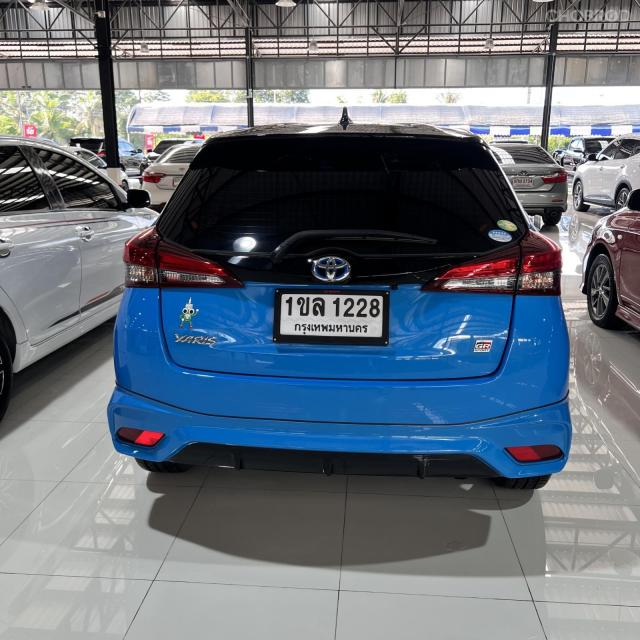license_plate: (268, 281, 392, 350)
